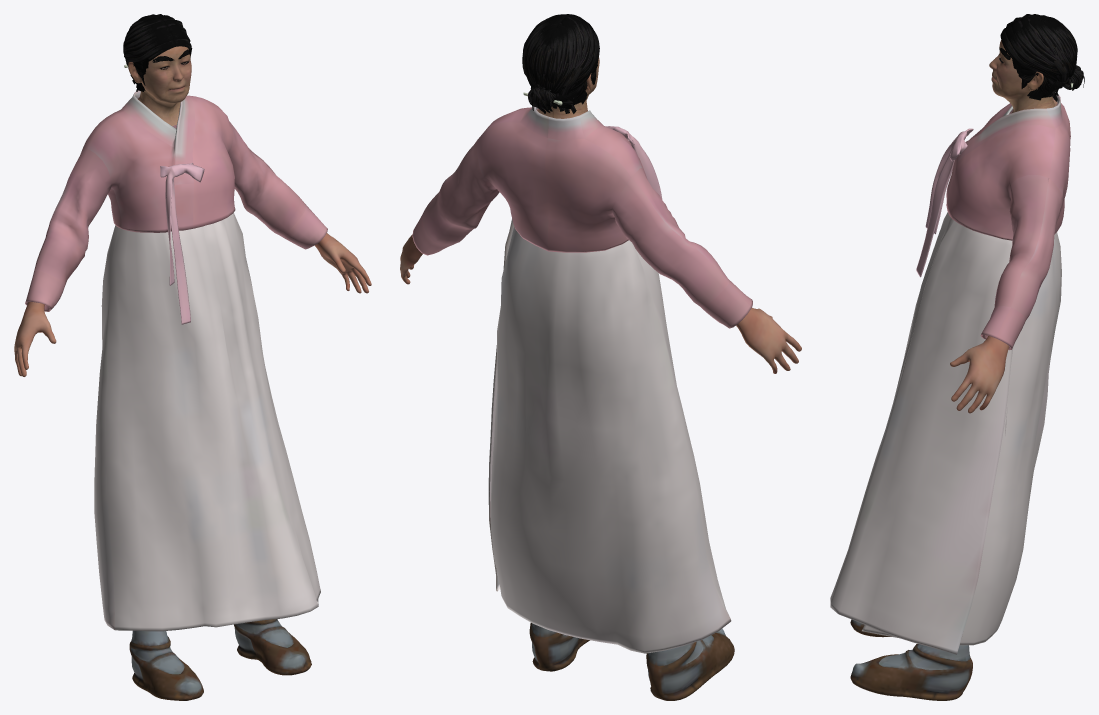
File: jumo4.fbx
The picture shows the model from 3 angles, left to right: view 1: azimuth 30°, elevation 25°; view 2: azimuth 150°, elevation 25°; view 3: azimuth 270°, elevation 25°; orthographic projection. The views are drawn at different scales.
Visible parts, largest first — view 1: NPC_Vendor_FishingVillageShop_Mesh_0; view 2: NPC_Vendor_FishingVillageShop_Mesh_0; view 3: NPC_Vendor_FishingVillageShop_Mesh_0.
Boxes of the visible parts, x1=… form: NPC_Vendor_FishingVillageShop_Mesh_0: x1=14, y1=14, x2=371, y2=700; NPC_Vendor_FishingVillageShop_Mesh_0: x1=400, y1=14, x2=801, y2=700; NPC_Vendor_FishingVillageShop_Mesh_0: x1=830, y1=14, x2=1084, y2=700.
Size of the model in its own units: 98.14 by 168 by 59.45.
2 materials, 2 textured.
